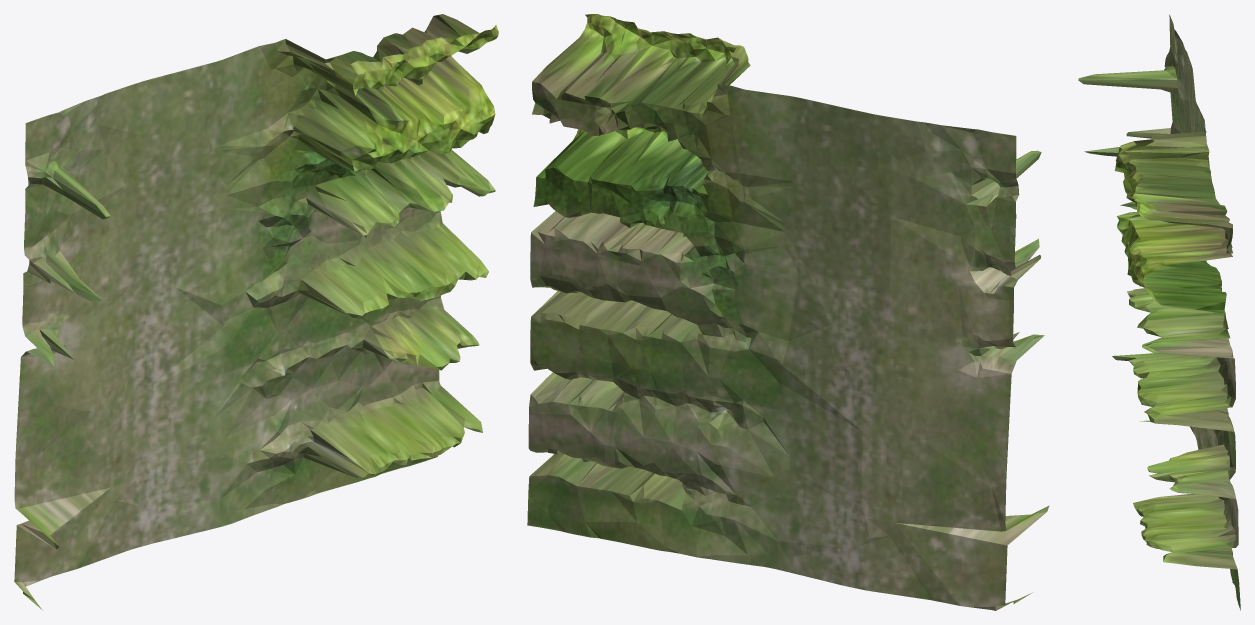
The model's file is map_40_10.obj.
3 renders of one model, left to right at view 1: azimuth 30°, elevation 25°; view 2: azimuth 150°, elevation 25°; view 3: azimuth 270°, elevation 25°, orthographic. The views are drawn at different scales.
Parts seen in each view (by area): view 1: grp1; view 2: grp1; view 3: grp1.
Boxes of the visible parts, x1,y1,x2,y2 form: grp1: (14, 14, 498, 610); grp1: (527, 14, 1049, 610); grp1: (1078, 14, 1240, 610).
Size of the model in its own units: 10 by 10 by 3.62.
Materials: 1 (1 with a texture image).
